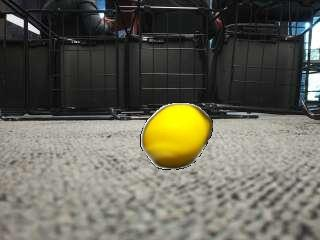lemon: (143, 104, 211, 168)
